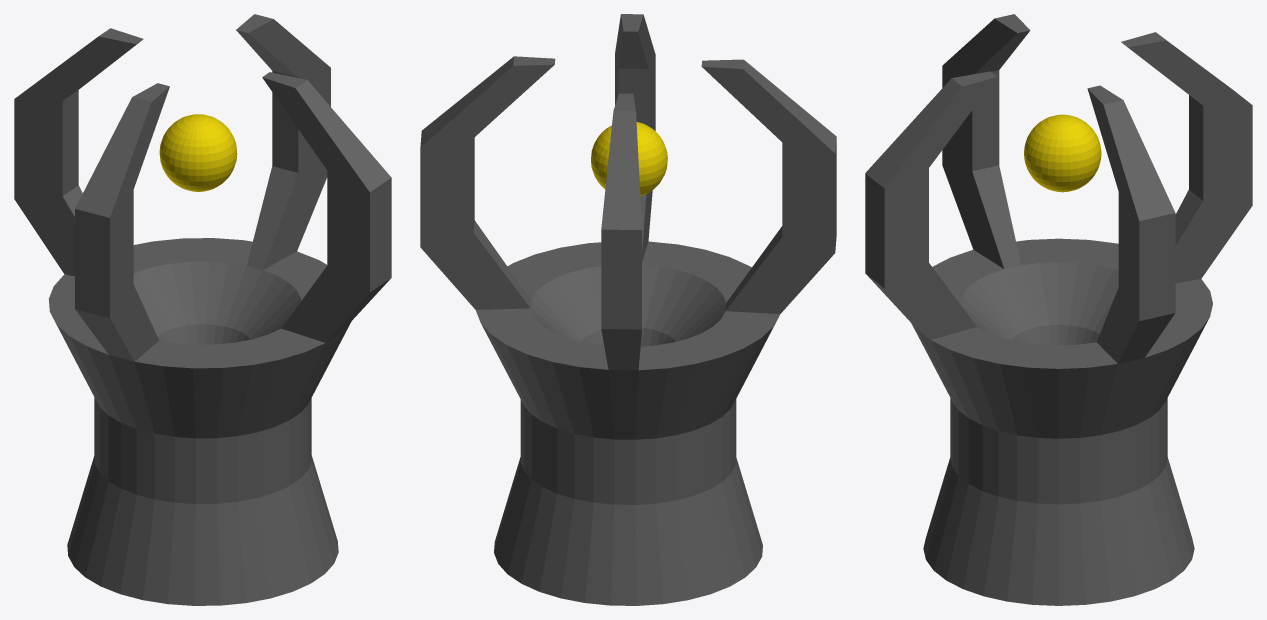
The model's file is MagneticTower.fbx.
3 renders of one model, left to right at view 1: azimuth 30°, elevation 25°; view 2: azimuth 150°, elevation 25°; view 3: azimuth 270°, elevation 25°, orthographic.
Parts seen in each view (by area): view 1: Cylinder; view 2: Cylinder; view 3: Cylinder.
Part boxes in pixels (x1,y1,x2,y2): Cylinder: [14, 14, 391, 605]; Cylinder: [420, 14, 836, 605]; Cylinder: [865, 14, 1252, 605].
Bounding box in the file's own units: 170 × 237 × 170.
